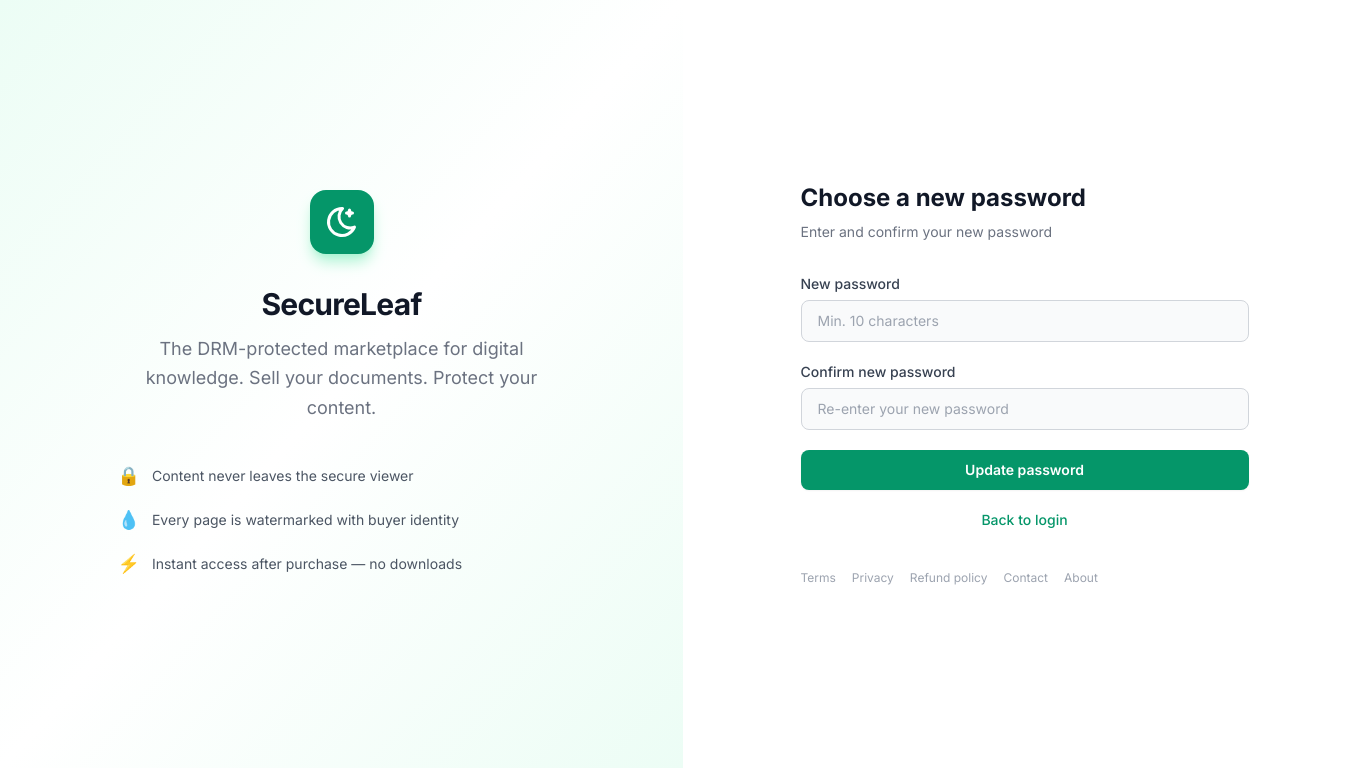
Test case: ResetPasswordPage › rejects a password shorter than the backend minimum
This screenshot has width=1366, height=768.
Type "short1" into the password field labelled "New password".
click(1024, 321); type("short1")  # box x1=800 y1=300 x2=1248 y2=342
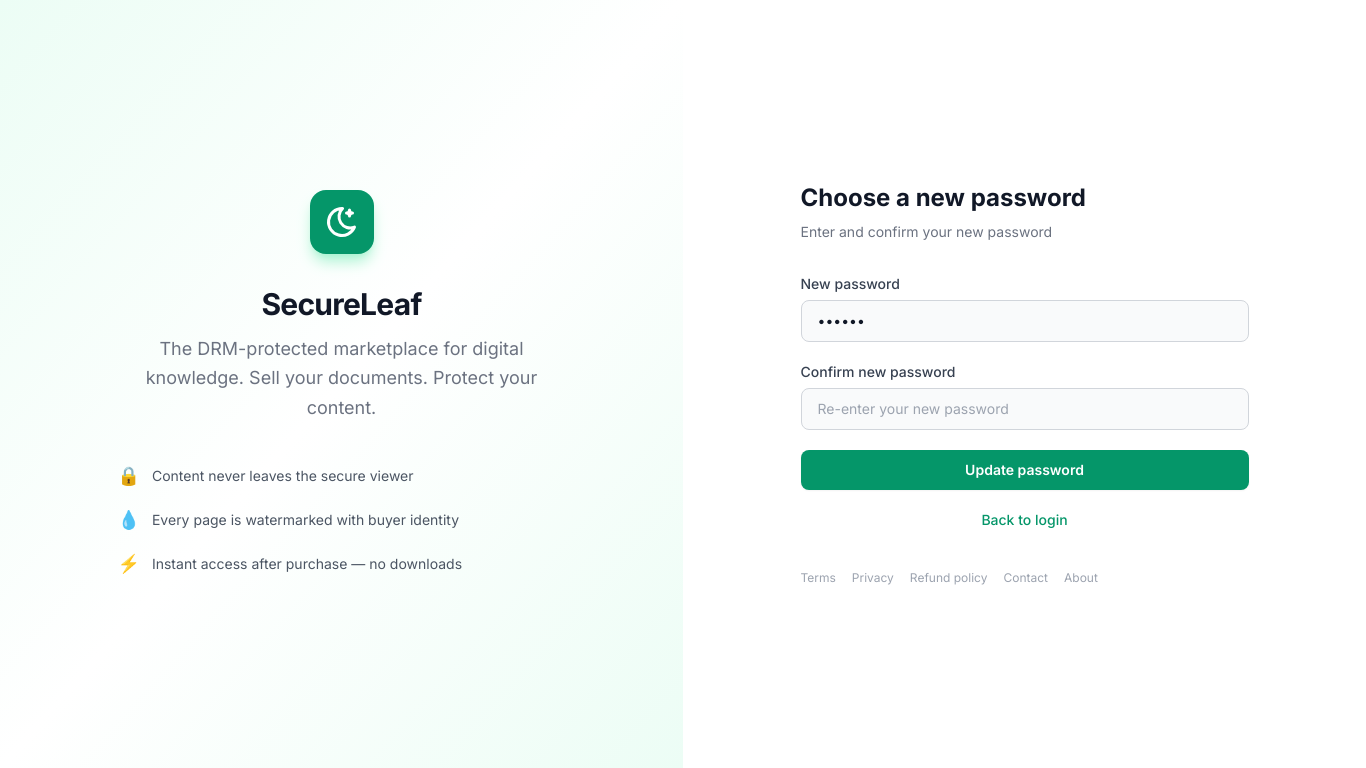
Type "short1" into the password field labelled "Confirm new password".
click(1024, 409); type("short1")  # box x1=800 y1=388 x2=1248 y2=430
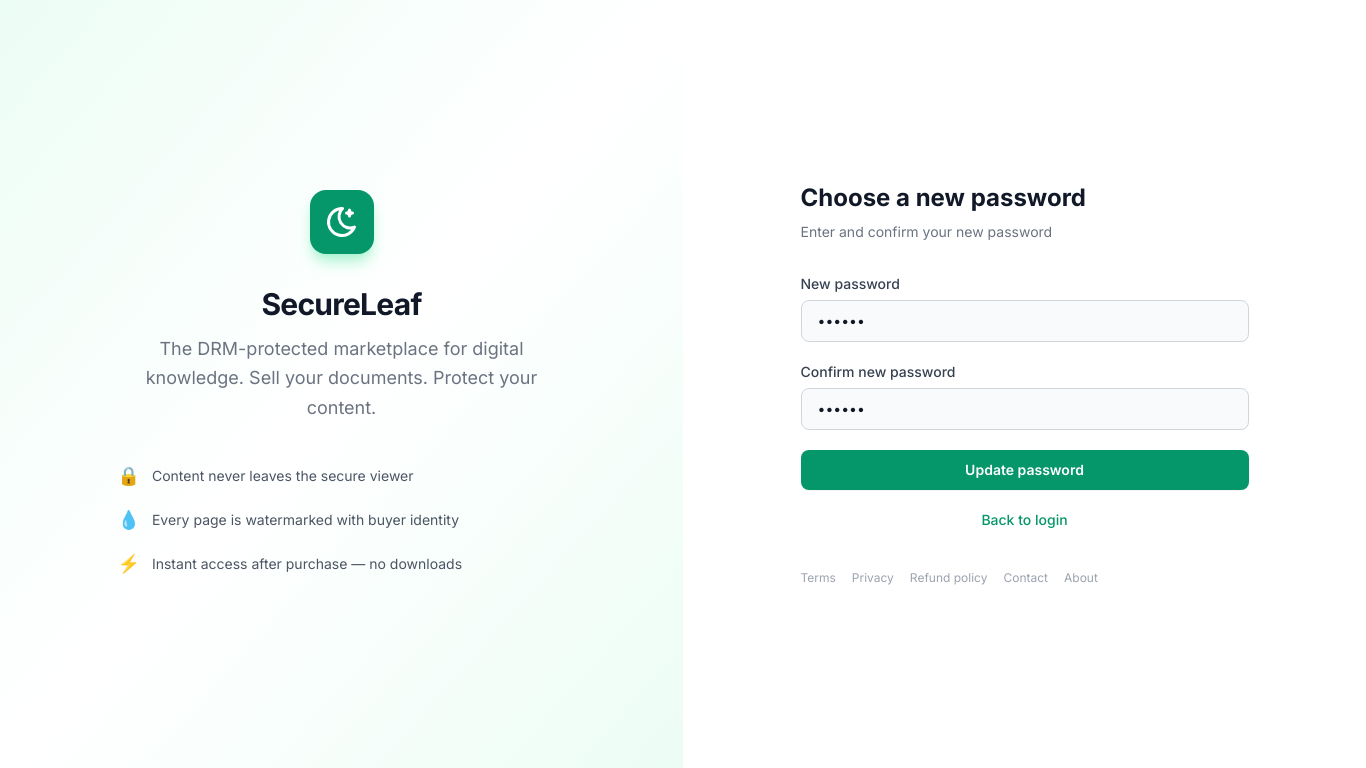
Click the button "Update password".
click(1024, 470)  # box x1=800 y1=450 x2=1248 y2=490
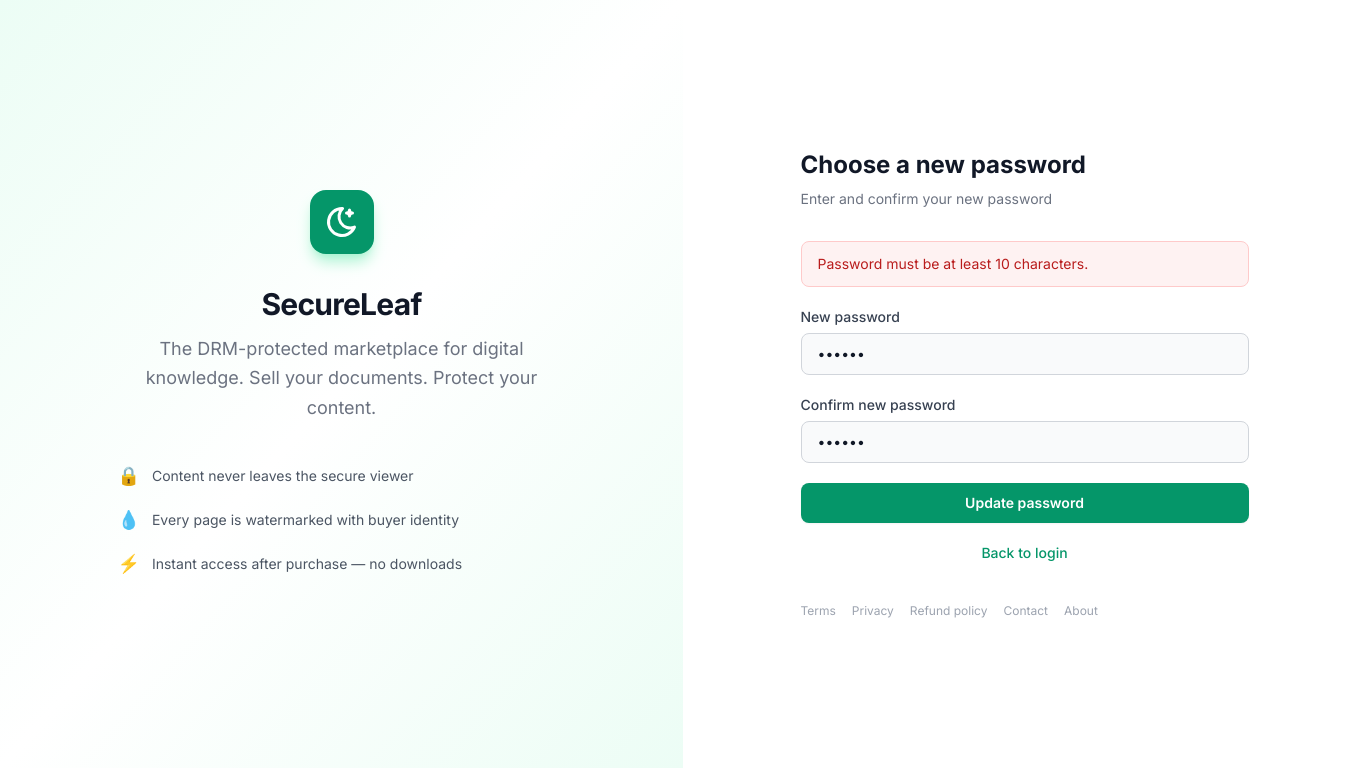
Now the text "Password must be at least 10 characters." is shown, box x1=800 y1=241 x2=1248 y2=287
